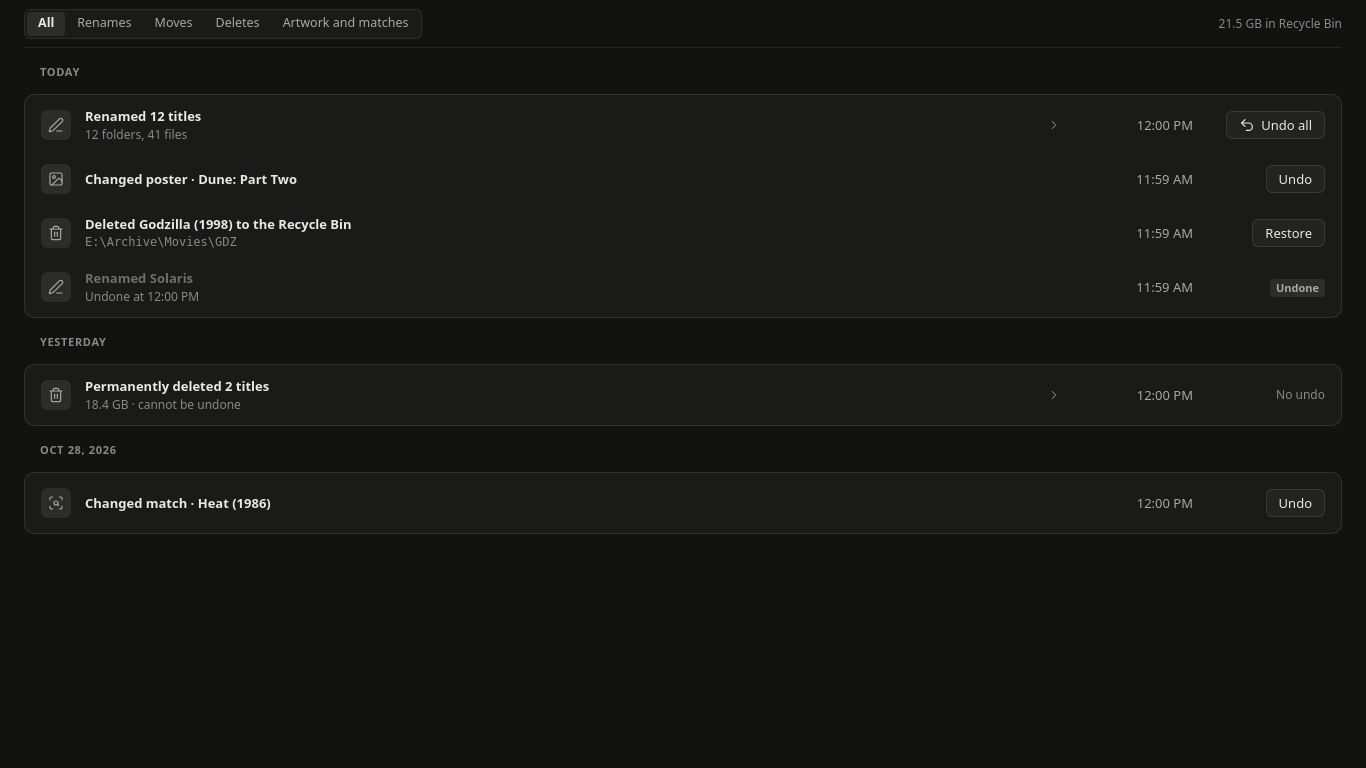
Test: the History page › filters by the tabs
The image size is (1366, 768).
expect the text "Renamed 12 titles" is shown: met, box [85, 107, 201, 125]
Click the button "Deletes": {"x": 238, "y": 24} [205, 12, 271, 36]
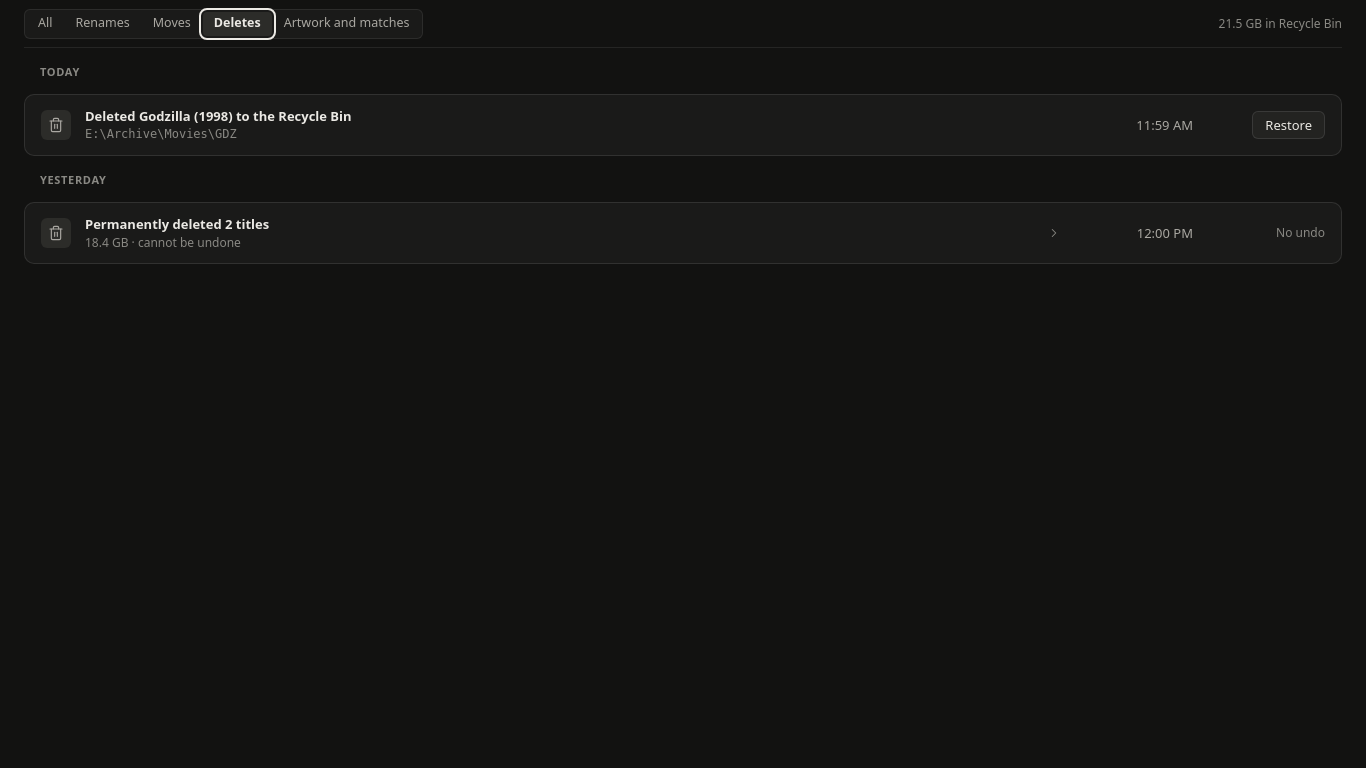
expect the text "Deleted Godzilla (1998) to the Recycle Bin" is shown: met, box [85, 107, 352, 125]
expect the button "Renamed 12 titles" is gone: met
Click the button "Artwork and matches": {"x": 347, "y": 24} [273, 12, 420, 36]
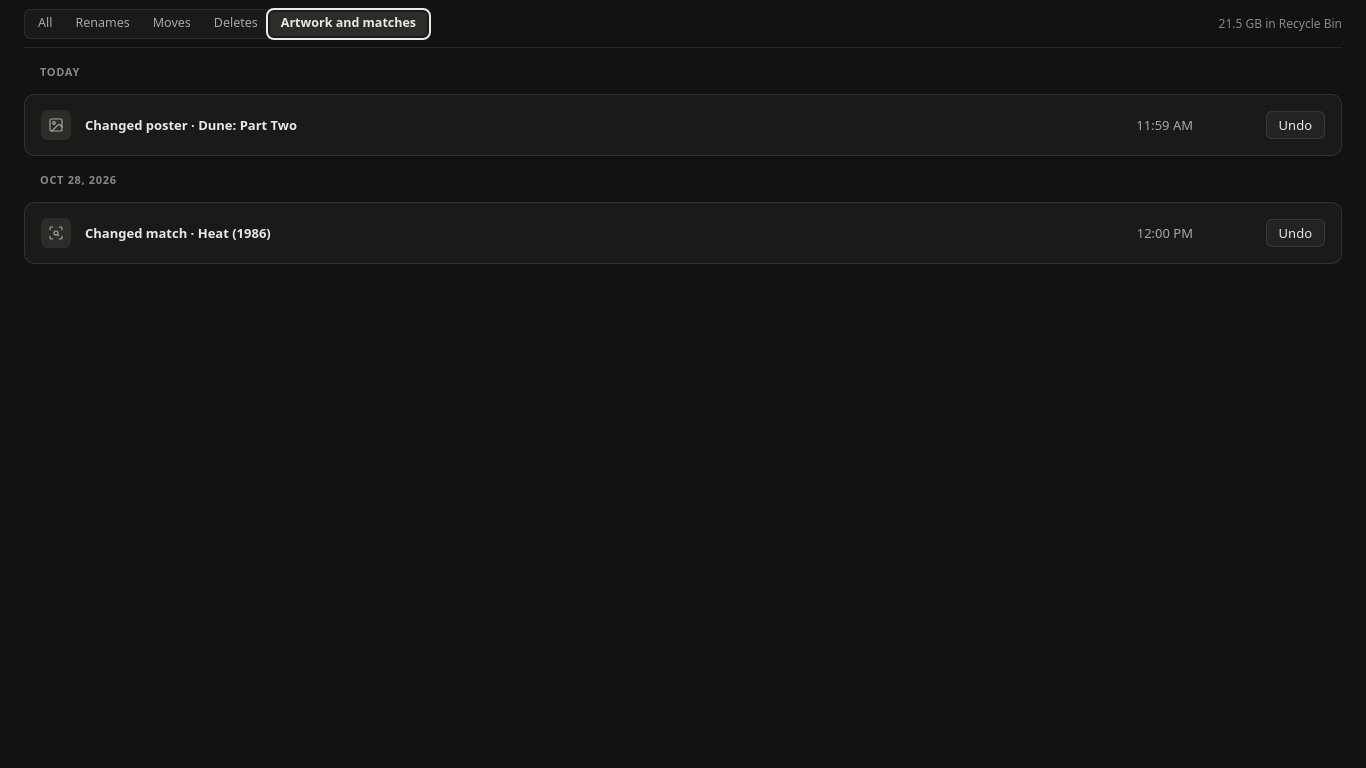
expect the text "Changed match · Heat (1986)" is shown: met, box [85, 224, 271, 242]
